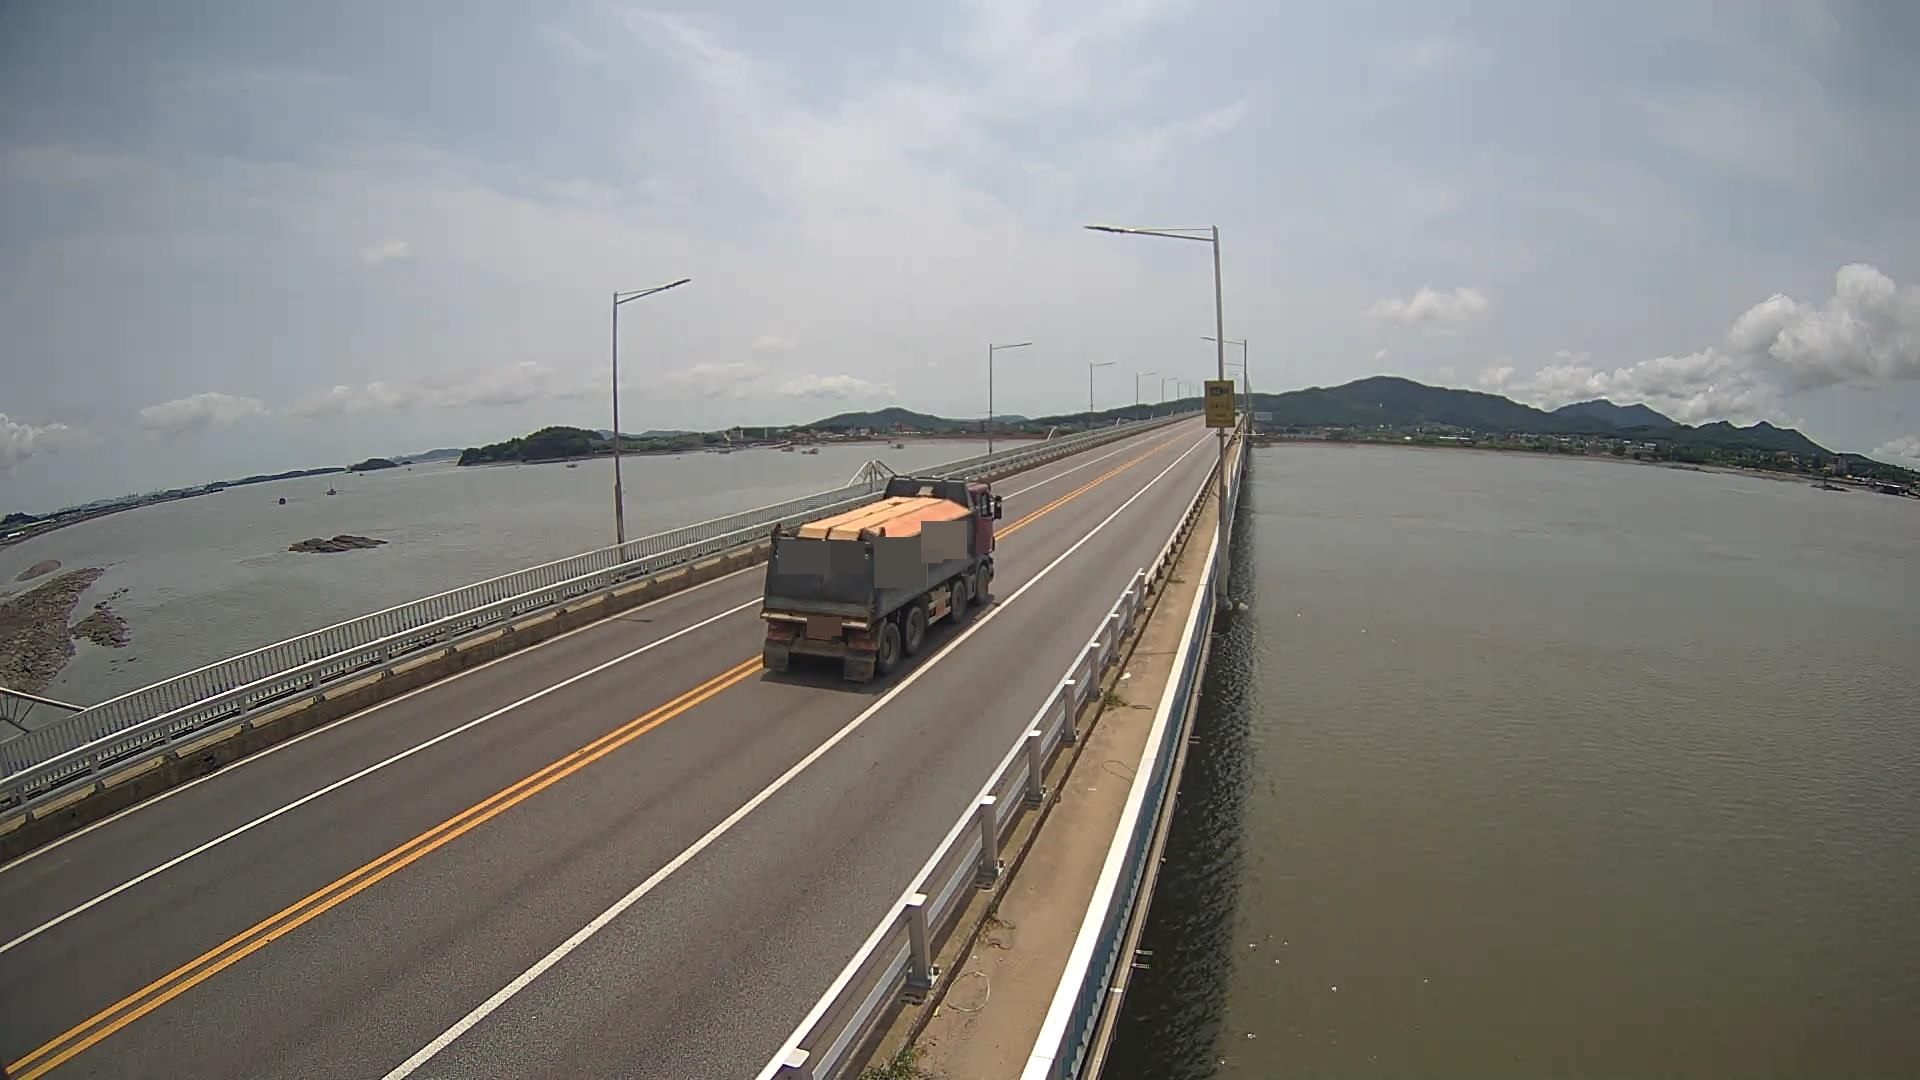정상차량: (761, 475, 1004, 675)
